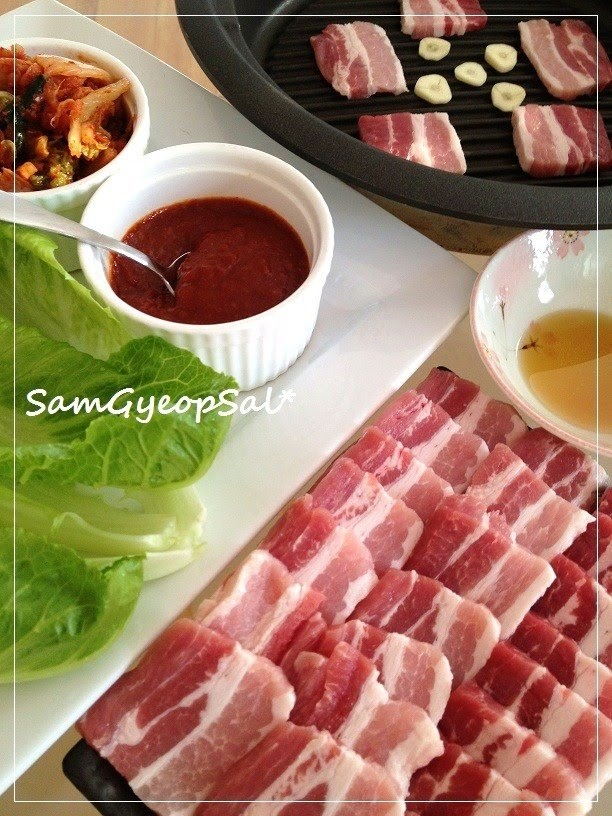background: (90, 166, 584, 553), (69, 464, 584, 816), (0, 278, 229, 816), (118, 102, 584, 223), (92, 22, 584, 129), (107, 79, 447, 219), (105, 167, 296, 412), (39, 41, 433, 133), (33, 33, 466, 108), (98, 24, 393, 126), (87, 0, 466, 78), (33, 40, 494, 92)
